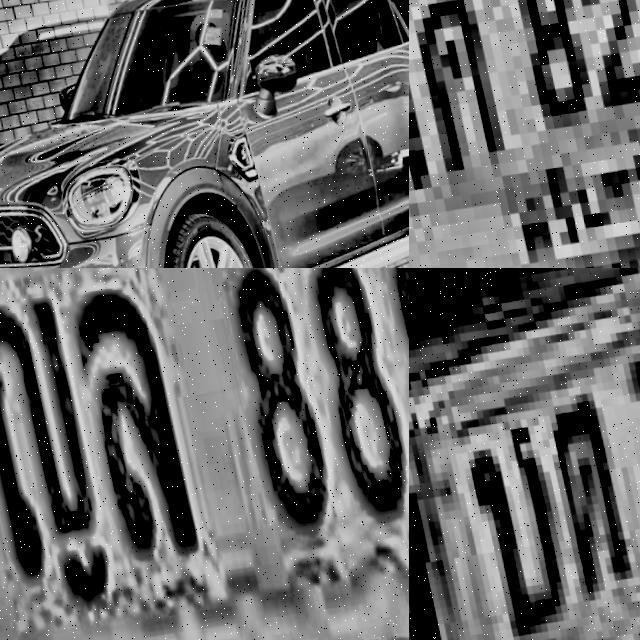license-plate: (0, 268, 409, 640), (409, 268, 640, 640), (409, 0, 640, 268)
